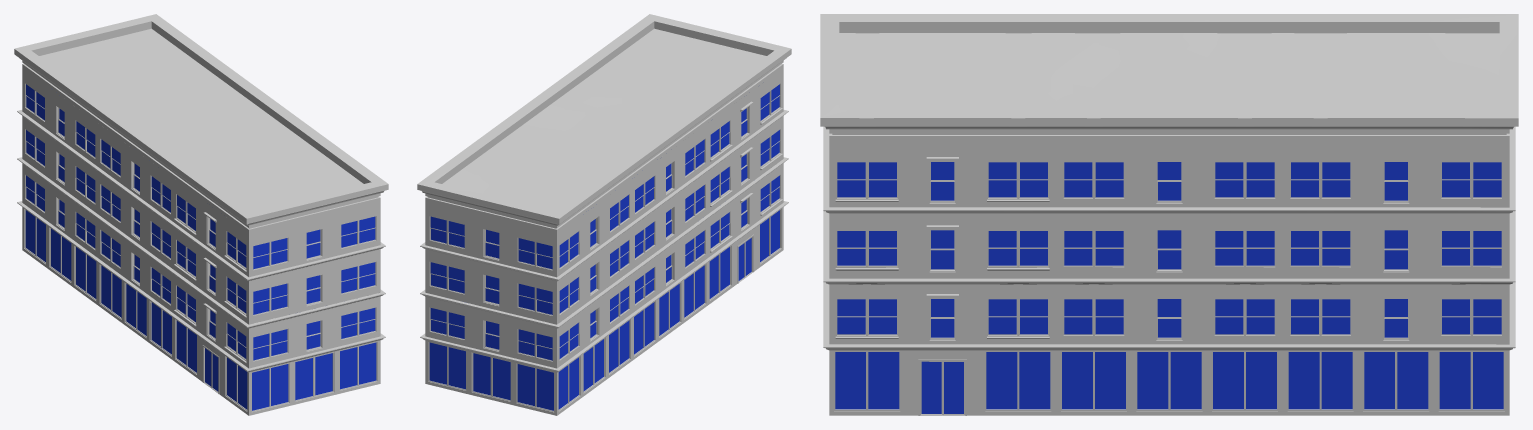
The model's file is urban building assets.fbx.
3 views of the same model, side by side, from view 1: azimuth 30°, elevation 25°; view 2: azimuth 150°, elevation 25°; view 3: azimuth 270°, elevation 25° (orthographic). The views are drawn at different scales.
Parts seen in each view (by area): view 1: Plane.019; view 2: Plane.019; view 3: Plane.019.
Part boxes in pixels (x1,y1,x2,y2): Plane.019: (14,14,388,415); Plane.019: (417,14,791,415); Plane.019: (820,14,1518,415).
Bounding box in the file's own units: 8.15 × 11.01 × 23.1.
